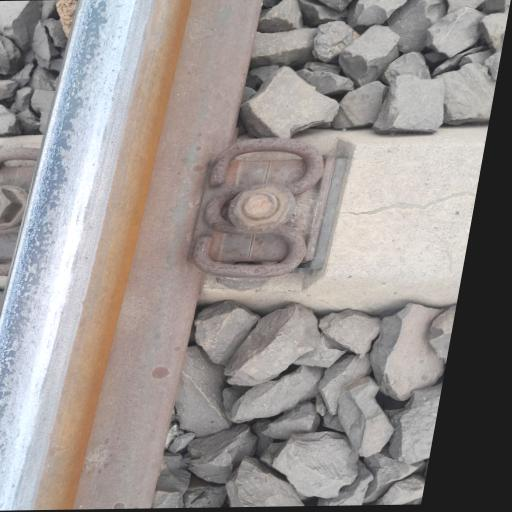bolt: (211, 169, 306, 242), (0, 175, 13, 231)
clip: (172, 125, 348, 289)
rail: (0, 47, 186, 478)
